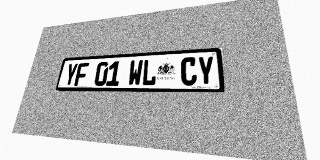0: (94, 61, 109, 86)
1: (106, 61, 121, 86)
C: (181, 57, 197, 86)
F: (74, 63, 89, 86)
L: (141, 59, 157, 86)
W: (127, 60, 143, 86)
Y: (197, 56, 215, 85), (63, 63, 78, 86)
